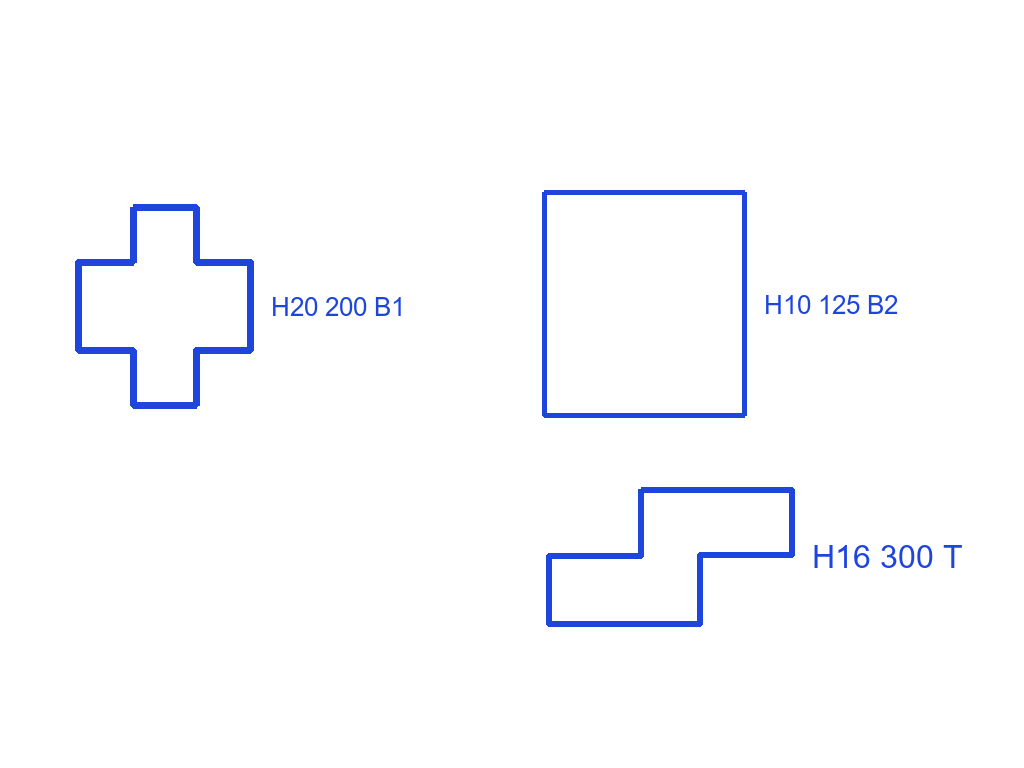shape: (540, 188, 749, 420), (73, 202, 256, 411), (544, 484, 797, 629)
text: (810, 543, 965, 570), (762, 293, 900, 316), (269, 295, 407, 318)
